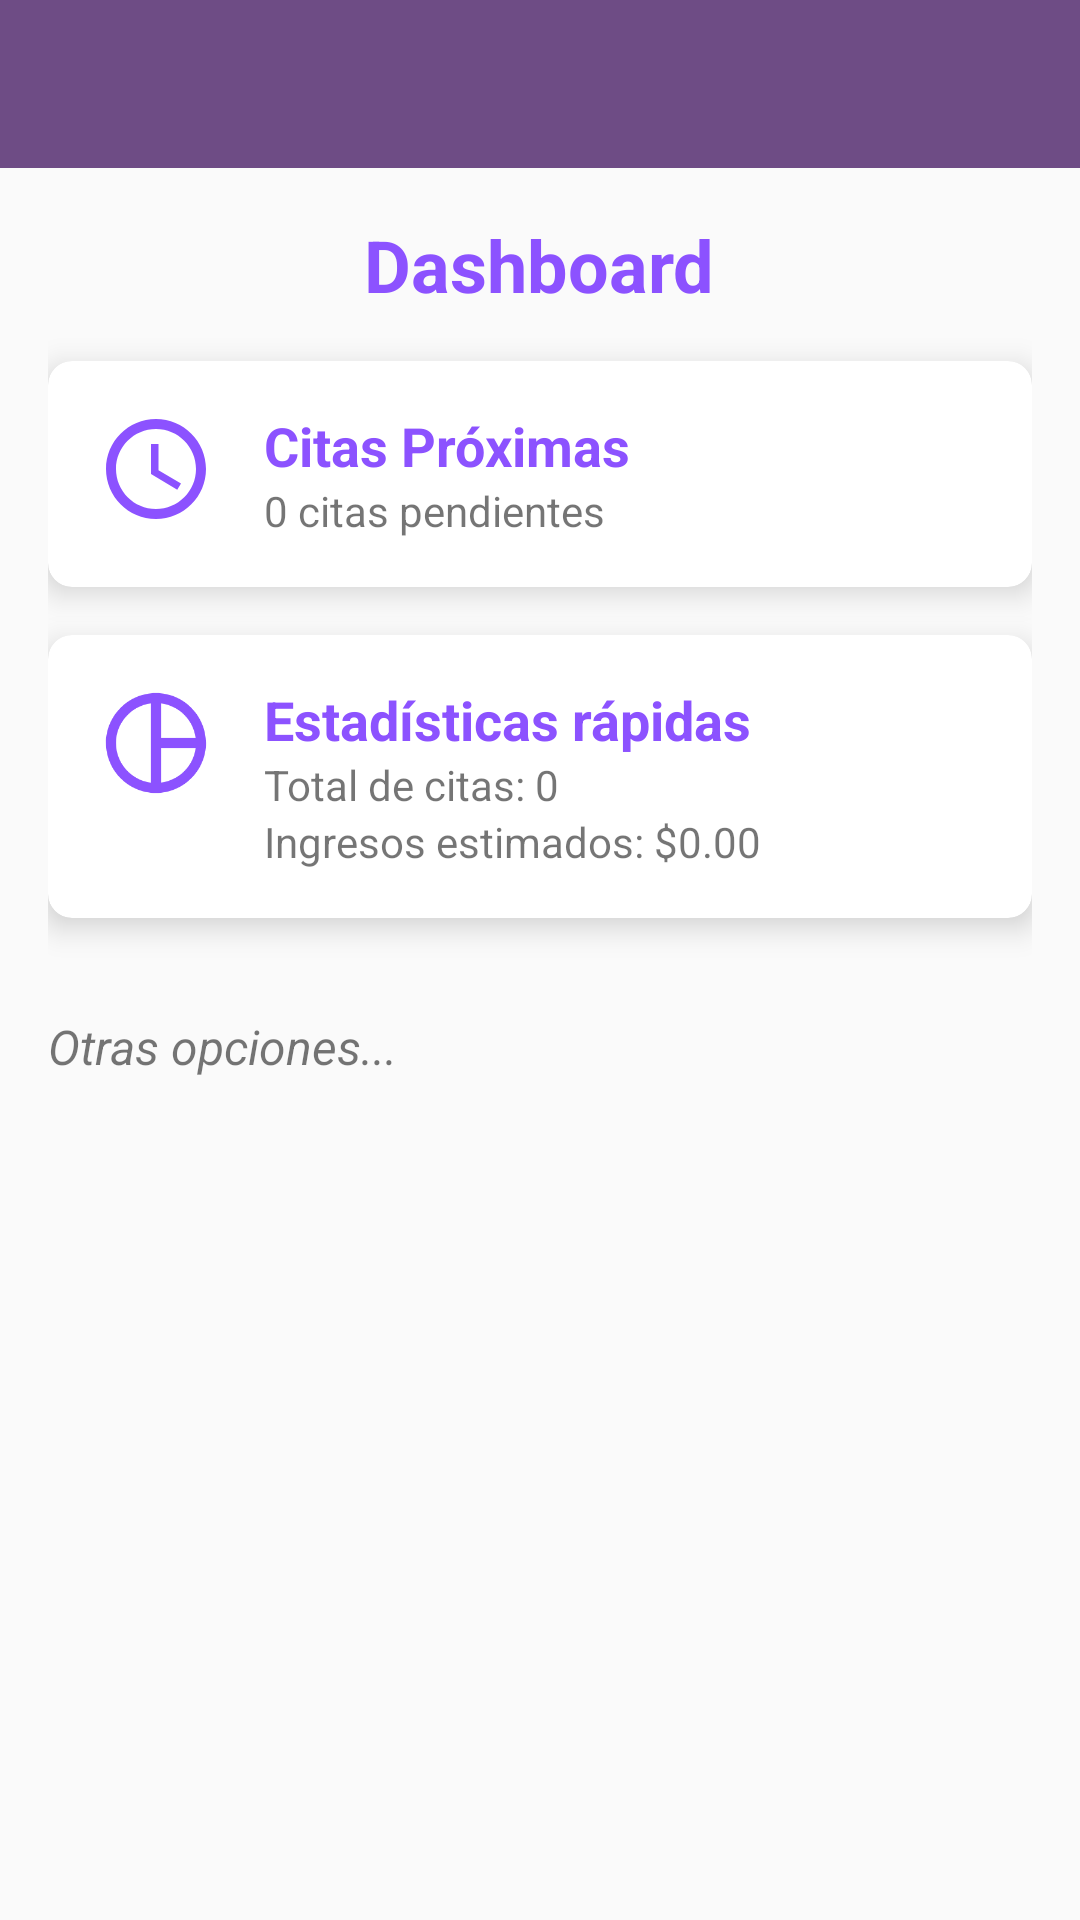

Where icons sit on this 1080px x 1920px app screen, as (x1, y1, x2, y2):
chart: (105, 693, 206, 793)
